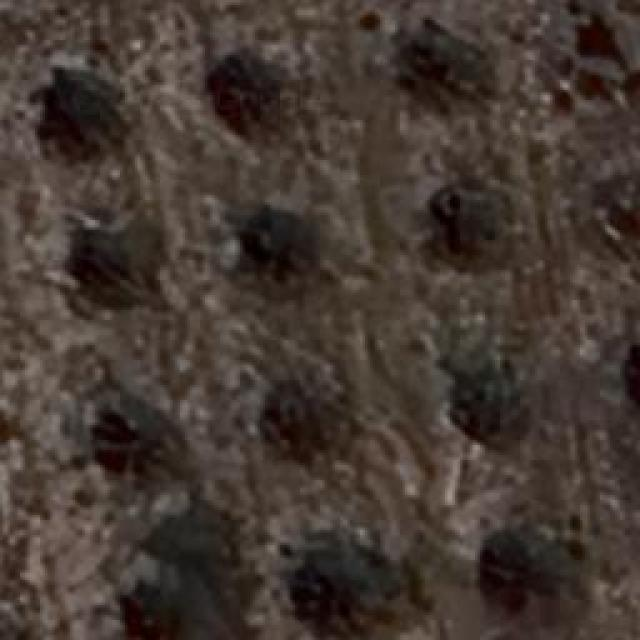PalmTree: (70, 58, 631, 375), (17, 86, 146, 611), (300, 555, 425, 640), (482, 532, 586, 630), (78, 225, 170, 315), (258, 374, 354, 456), (438, 374, 528, 454), (52, 70, 136, 150), (222, 210, 308, 282), (220, 46, 300, 119), (435, 174, 503, 252), (406, 24, 484, 82), (88, 404, 172, 456), (0, 610, 48, 640), (628, 332, 640, 418)
